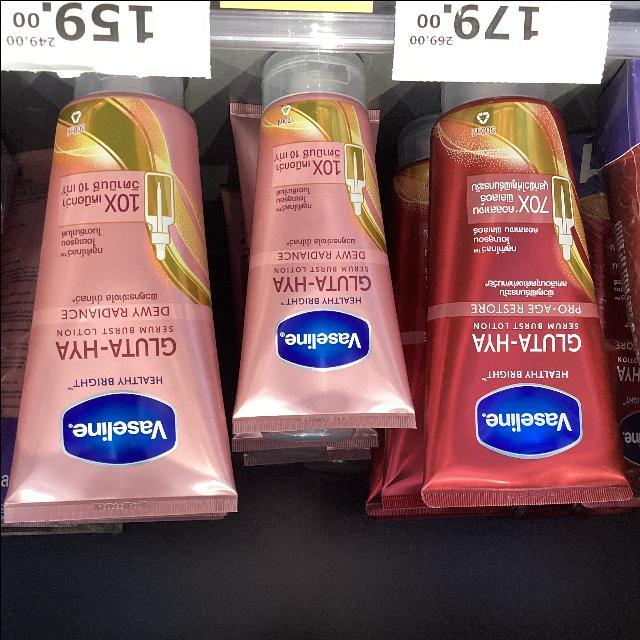Squeeze Tube: (2, 53, 244, 551), (410, 55, 640, 524), (239, 38, 423, 445)
